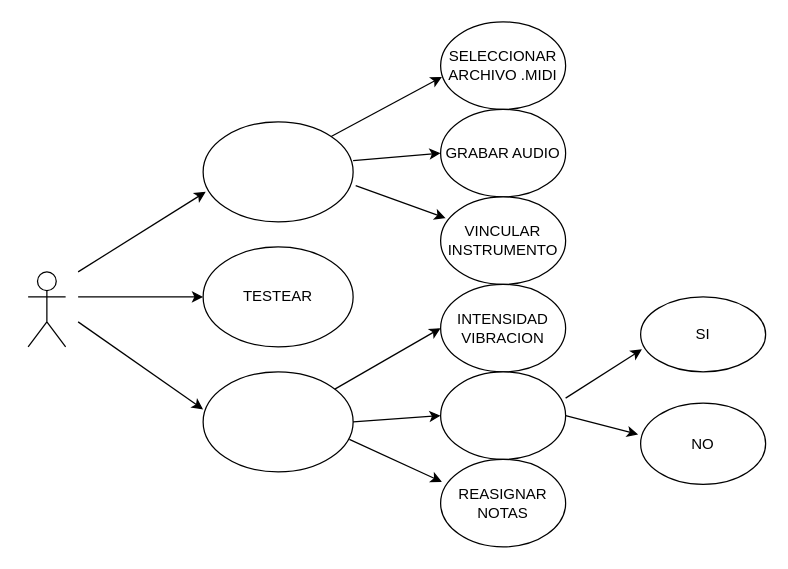
This 788x569 diagram has some shape labels left out. Here are the shapes that lost their labels. From the top down, the centre of each, then its label:
At point 277,171: "REPRODUCIR SONIDO".
At point 46,309: "Usuario".
At point 277,421: "AJUSTES".
At point 502,415: "SONIDO POR DEFECTO".
